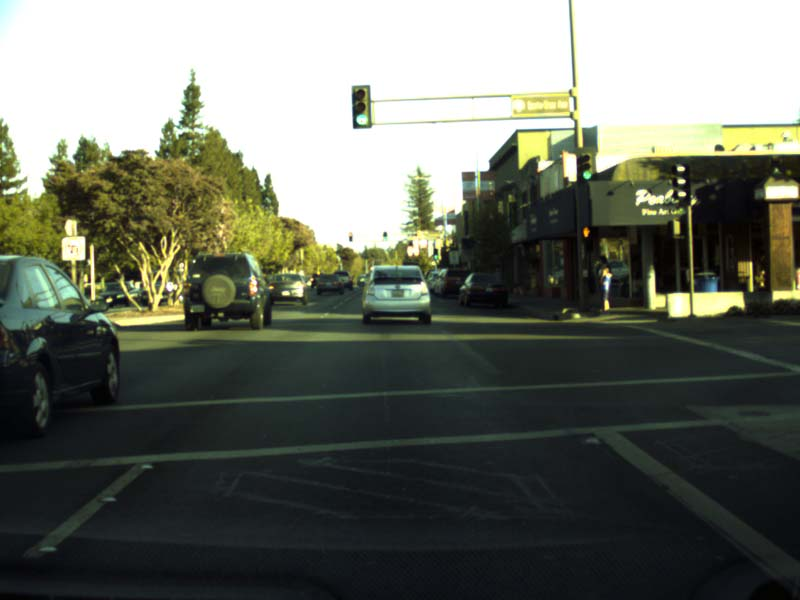Green: (351, 85, 372, 127), (575, 148, 595, 179), (382, 232, 387, 241), (434, 249, 437, 259)
Red: (348, 232, 351, 240)
